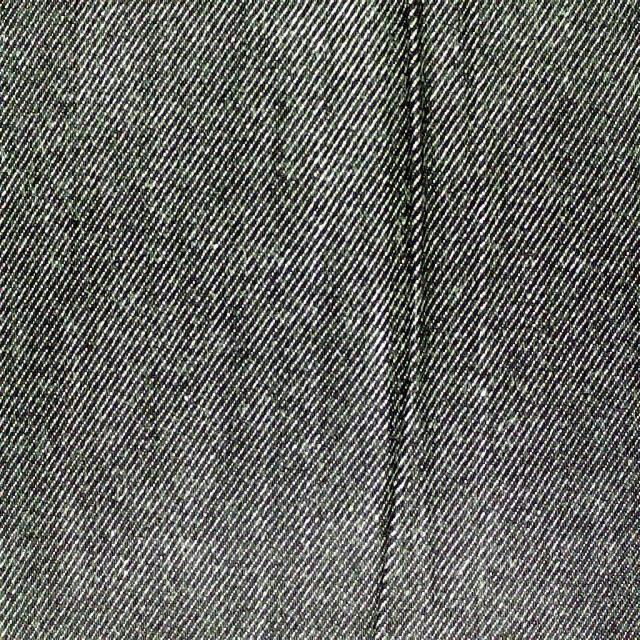pulled_or_thick_thread: (365, 0, 433, 638)
